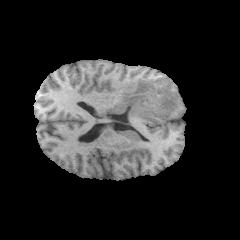glioma: (121, 78, 177, 120)
